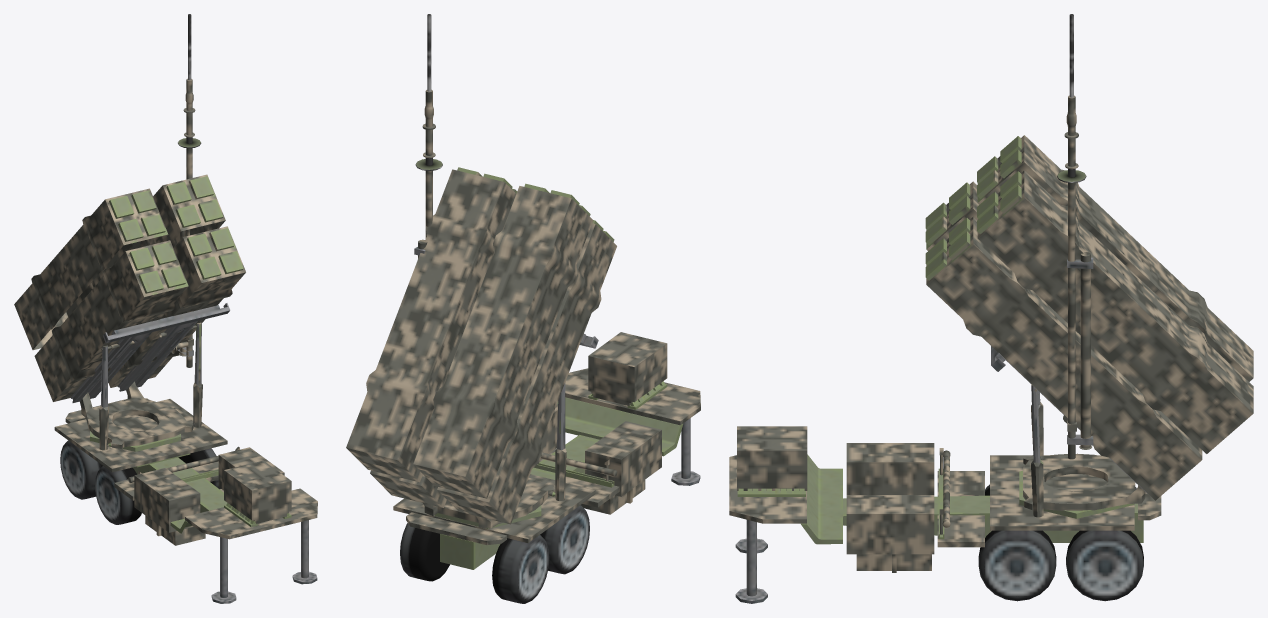
File: M901_LVL2.fbx
3 views of the same model, side by side, from view 1: azimuth 30°, elevation 25°; view 2: azimuth 150°, elevation 25°; view 3: azimuth 270°, elevation 25° (orthographic). The views are drawn at different scales.
Visible parts, largest first — view 1: Fire_Low, Body_Low; view 2: Fire_Low, Body_Low; view 3: Fire_Low, Body_Low.
Part boxes in pixels (x1,y1,x2,y2): Fire_Low: (14, 14, 245, 450); Body_Low: (54, 398, 317, 603); Fire_Low: (346, 14, 616, 528); Body_Low: (393, 332, 700, 603); Fire_Low: (925, 14, 1253, 517); Body_Low: (729, 426, 1161, 603).
Size of the model in its own units: 276 by 1002 by 807.
